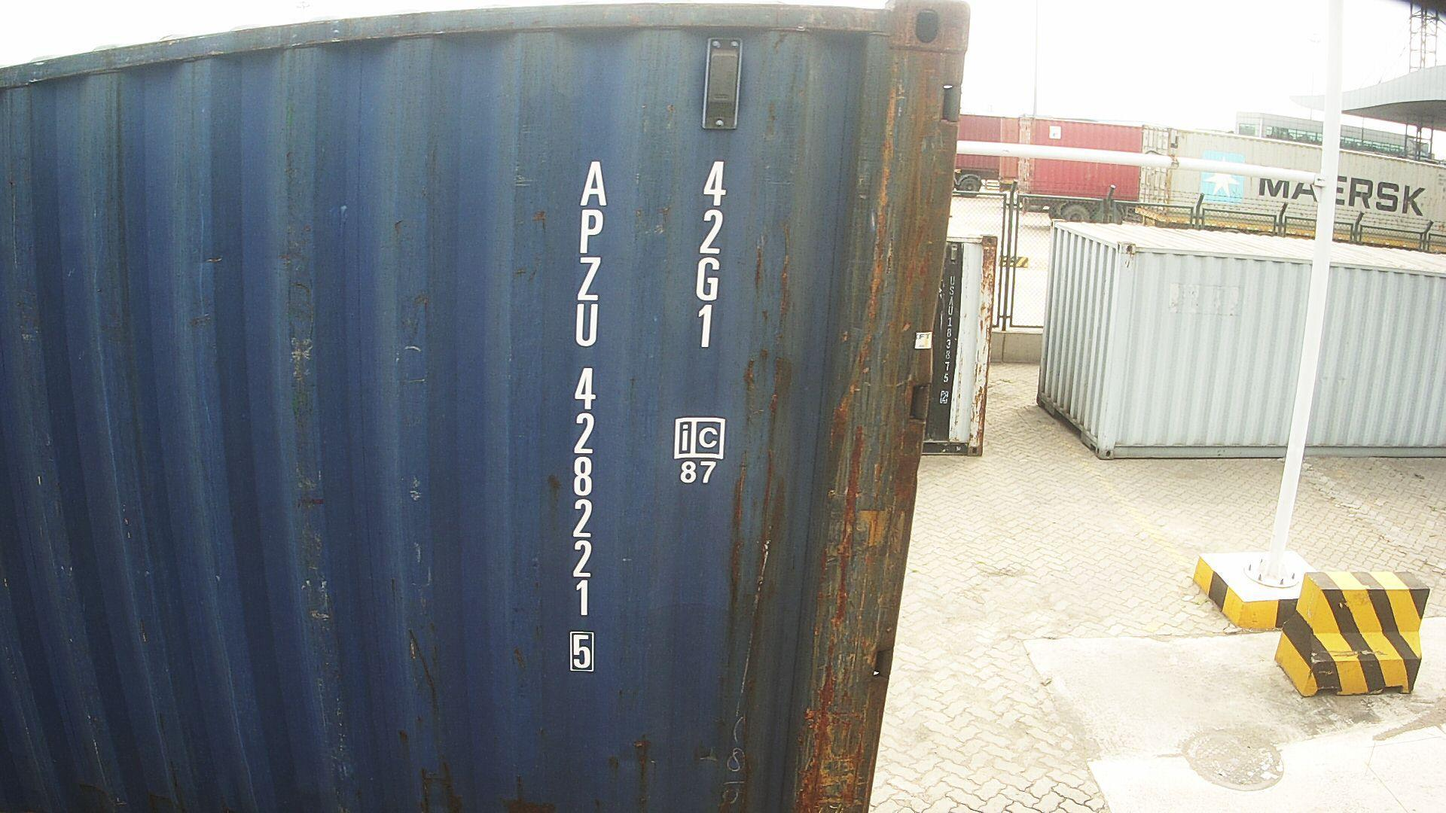container-numbers: (565, 150, 618, 677), (685, 157, 735, 361)
